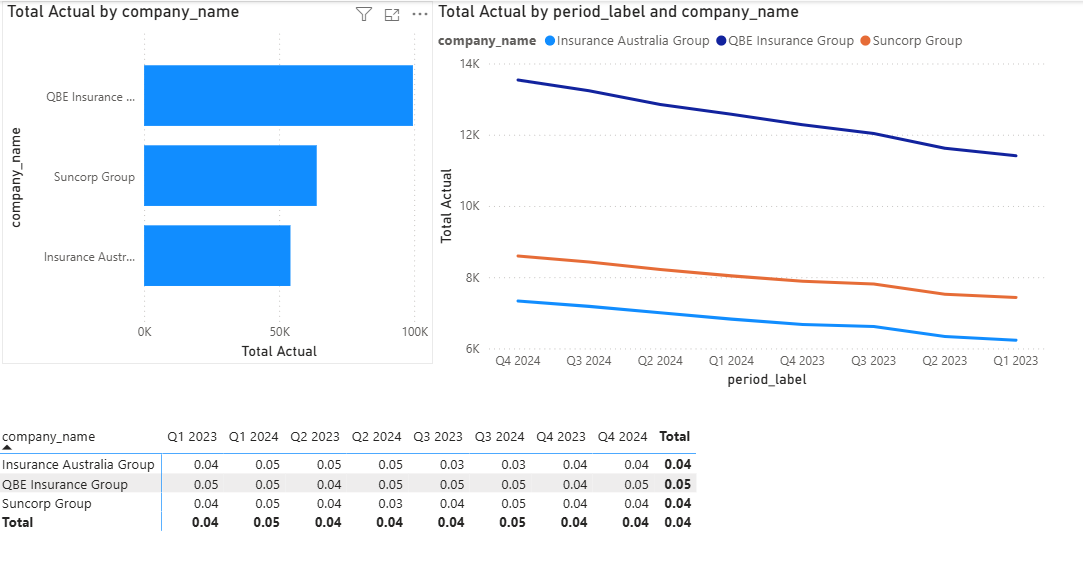

This screenshot's page, from the dashboard's own definition file:
{"tool":"powerbi","page":{"name":"Revenue and Variance Detail","canvas":[1280,720],"ordinal":1},"visuals":[{"type":"clusteredBarChart","fields":{"Category":["dim_company.company_name"],"Y":["Measures (2).Total Actual"]},"box":[9.7,0,428,359.9],"z":0},{"type":"pivotTable","fields":{"Rows":["dim_company.company_name"],"Columns":["dim_period.period_label"],"Values":["Measures (2).Variance %"]},"box":[0,416.3,712,162.4],"z":1},{"type":"lineChart","fields":{"Category":["dim_period.period_label"],"Y":["Measures (2).Total Actual"],"Series":["dim_company.company_name"]},"box":[437.7,0,611.8,388.1],"z":2}]}

Visuals, with their boxes on the page's 1280x720 design canvas (x1, y1, x2, y2). These are canvas units, not pixel positions in the 1083x573 screenshot, which may show the page scaled, cropped or inside an application window:
clusteredBarChart - dim_company.company_name x Measures (2).Total Actual: pyautogui.locateOnScreen(10, 0, 438, 360)
pivotTable - dim_company.company_name x dim_period.period_label: pyautogui.locateOnScreen(0, 416, 712, 579)
lineChart - dim_period.period_label x Measures (2).Total Actual: pyautogui.locateOnScreen(438, 0, 1050, 388)
